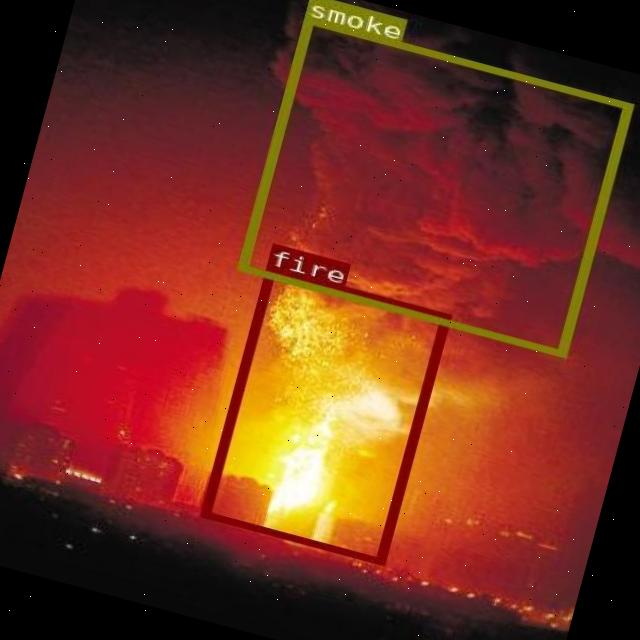fire: (200, 264, 450, 564)
smoke: (236, 14, 631, 355)
